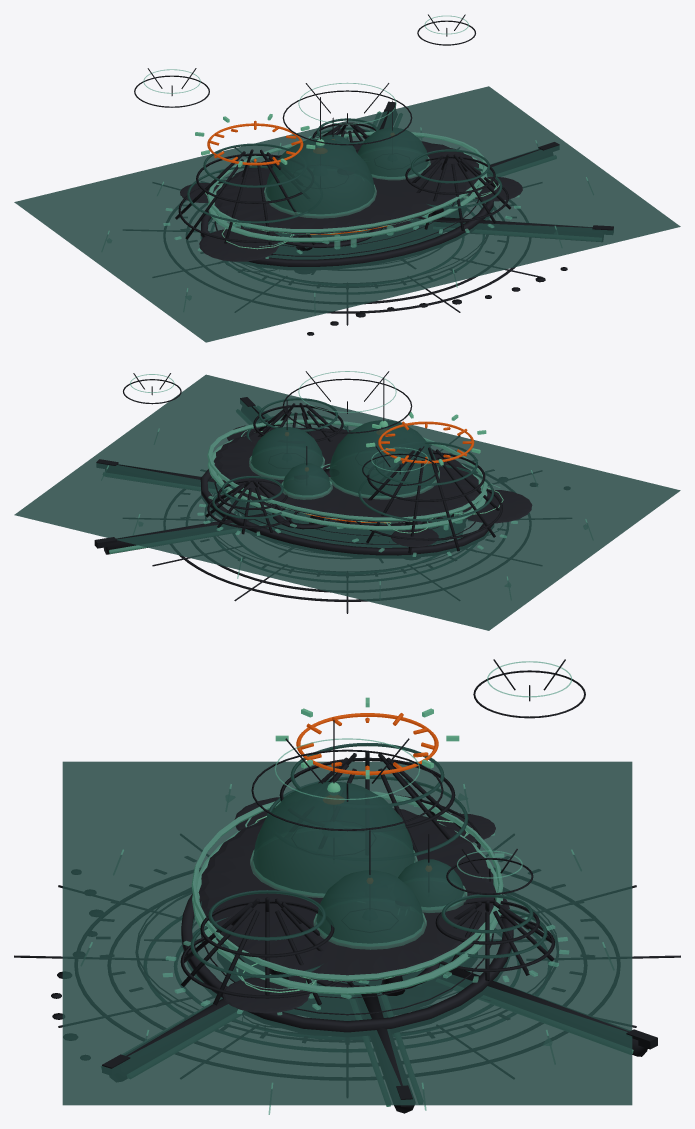
Rendered from yoga-ext-hero.glb.
The picture shows the model from 3 angles, top to bottom: view 1: azimuth 30°, elevation 25°; view 2: azimuth 150°, elevation 25°; view 3: azimuth 270°, elevation 25°; orthographic projection. The views are drawn at different scales.
Parts seen in each view (by area): view 1: yoga_s86_glass_hero_mesh, yoga_s86_base_hero_mesh, yoga_s86_detail_hero_mesh, yoga_s86_accent_hero_mesh, yoga_s86_holo_hero_mesh, yoga_s86_energy_hero_mesh, yoga_s86_emissive_hero_mesh; view 2: yoga_s86_glass_hero_mesh, yoga_s86_base_hero_mesh, yoga_s86_detail_hero_mesh, yoga_s86_accent_hero_mesh, yoga_s86_holo_hero_mesh, yoga_s86_energy_hero_mesh, yoga_s86_emissive_hero_mesh; view 3: yoga_s86_glass_hero_mesh, yoga_s86_base_hero_mesh, yoga_s86_detail_hero_mesh, yoga_s86_accent_hero_mesh, yoga_s86_holo_hero_mesh, yoga_s86_energy_hero_mesh, yoga_s86_emissive_hero_mesh.
Boxes of the visible parts, x1=… form: yoga_s86_glass_hero_mesh: x1=14, y1=86, x2=680, y2=342; yoga_s86_base_hero_mesh: x1=180, y1=141, x2=542, y2=325; yoga_s86_detail_hero_mesh: x1=134, y1=14, x2=613, y2=335; yoga_s86_accent_hero_mesh: x1=207, y1=111, x2=499, y2=246; yoga_s86_holo_hero_mesh: x1=108, y1=15, x2=587, y2=296; yoga_s86_energy_hero_mesh: x1=207, y1=120, x2=387, y2=234; yoga_s86_emissive_hero_mesh: x1=195, y1=114, x2=496, y2=249; yoga_s86_glass_hero_mesh: x1=14, y1=374, x2=680, y2=630; yoga_s86_base_hero_mesh: x1=152, y1=425, x2=532, y2=613; yoga_s86_detail_hero_mesh: x1=94, y1=371, x2=502, y2=601; yoga_s86_accent_hero_mesh: x1=109, y1=419, x2=500, y2=553; yoga_s86_holo_hero_mesh: x1=106, y1=371, x2=587, y2=584; yoga_s86_energy_hero_mesh: x1=305, y1=421, x2=474, y2=523; yoga_s86_emissive_hero_mesh: x1=217, y1=412, x2=503, y2=533; yoga_s86_glass_hero_mesh: x1=62, y1=743, x2=632, y2=1105; yoga_s86_base_hero_mesh: x1=14, y1=797, x2=680, y2=1032; yoga_s86_detail_hero_mesh: x1=51, y1=659, x2=657, y2=1113; yoga_s86_accent_hero_mesh: x1=191, y1=791, x2=633, y2=1106; yoga_s86_holo_hero_mesh: x1=89, y1=661, x2=605, y2=1114; yoga_s86_energy_hero_mesh: x1=296, y1=713, x2=438, y2=776; yoga_s86_emissive_hero_mesh: x1=208, y1=697, x2=483, y2=992.
Bounding box in the file's own units: 18 × 5.49 × 14.76.
